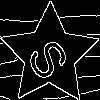S: (24, 30, 79, 84)
